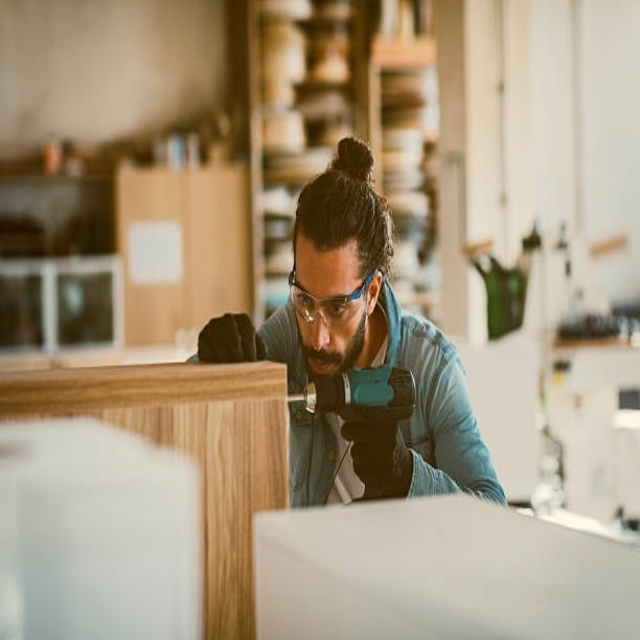Gafas: (287, 265, 377, 325)
Guantes: (345, 429, 413, 500), (197, 313, 263, 364)
Sin_mascara: (303, 333, 338, 370)
